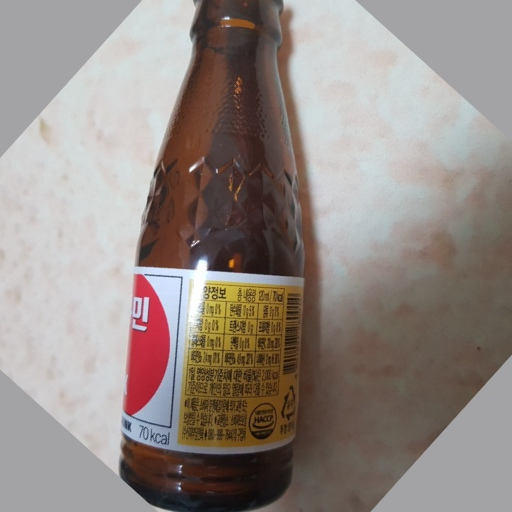Glass_3: (122, 1, 306, 512)
